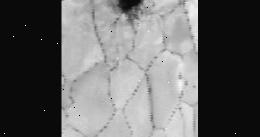good_void: (110, 0, 156, 25)
